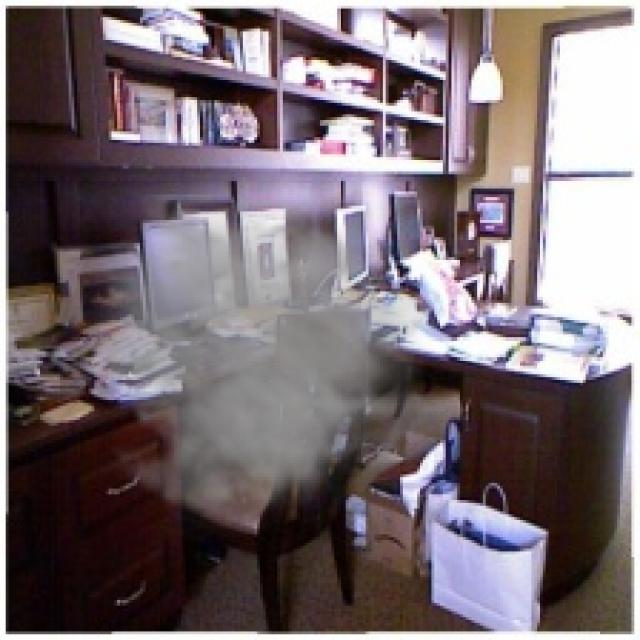smoke: (77, 194, 437, 543)
